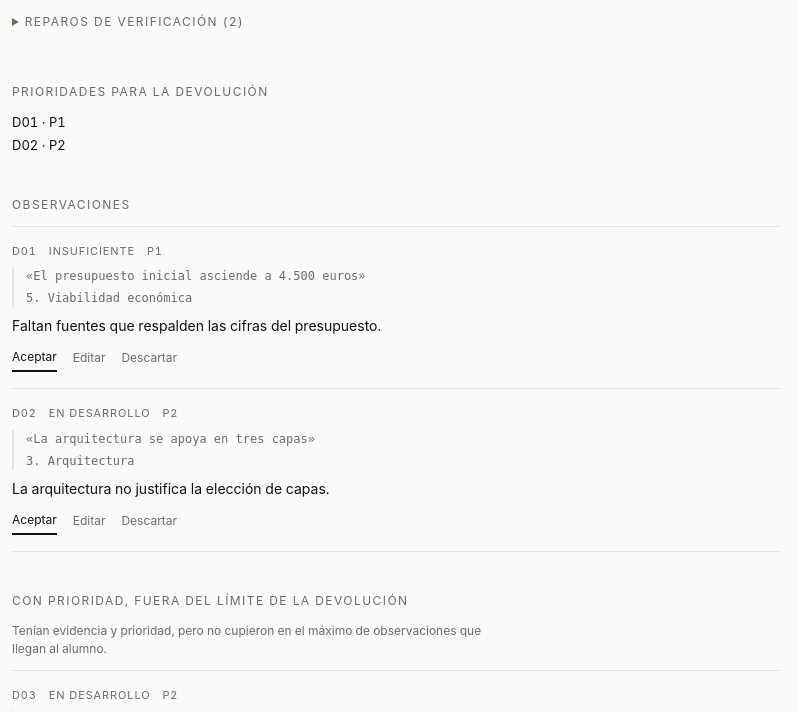
it: Revision › al descartar una observación desaparece de las prioridades
(page scrolled)
Expected: the list item "D01 · P1" is shown, [12,114,66,130]
Note: La primera tarjeta de "Observaciones" es la de D01 (la primera prioridad).
Click the button "Descartar" below "insuficiente" at (149, 360), box [121,348,177,372]
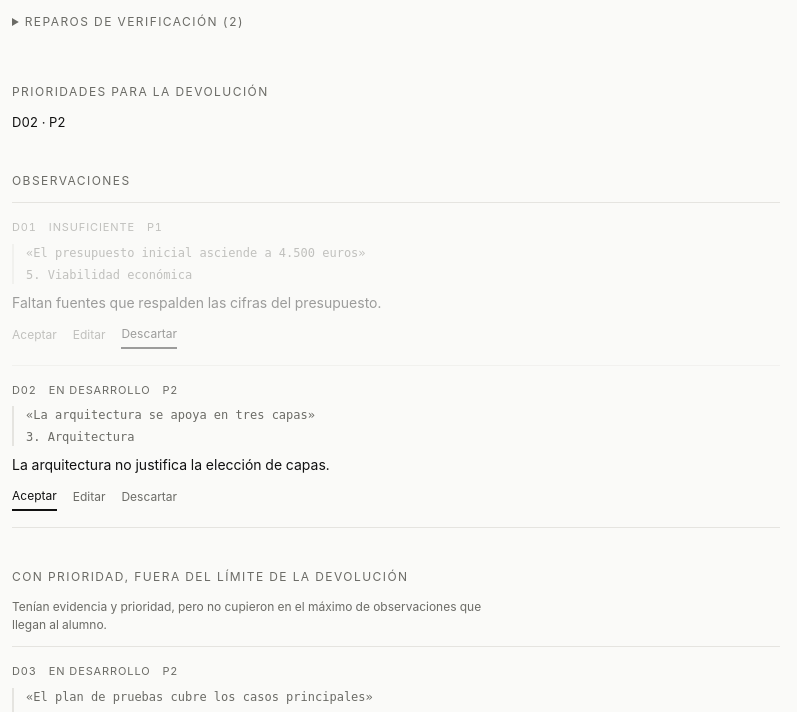
Expected: the list item "D02 · P2" is shown, [12,114,66,130]
Expected: the list item "D01 · P1" is gone
